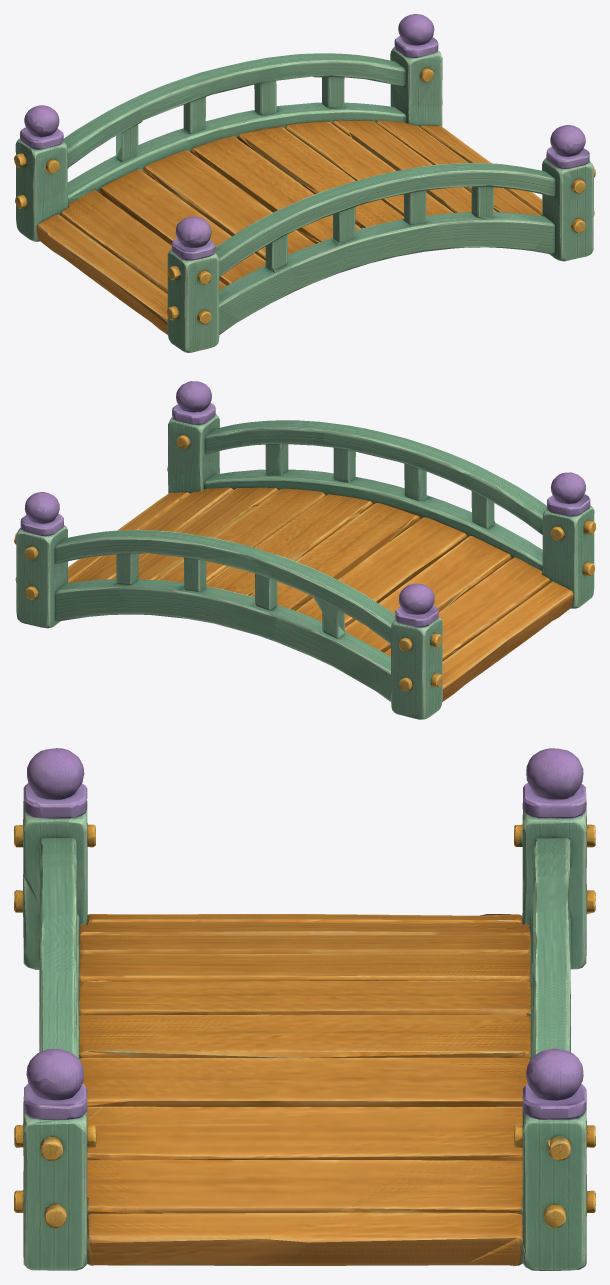
3 renders of one model, top to bottom at view 1: azimuth 30°, elevation 25°; view 2: azimuth 150°, elevation 25°; view 3: azimuth 270°, elevation 25°, orthographic. The views are drawn at different scales.
Parts seen in each view (by area): view 1: island-bridge-v1-1; view 2: island-bridge-v1-1; view 3: island-bridge-v1-1.
Part boxes in pixels (left/top/right/bottom): island-bridge-v1-1: left=14, top=14, right=595, bottom=352; island-bridge-v1-1: left=14, top=381, right=595, bottom=719; island-bridge-v1-1: left=14, top=748, right=595, bottom=1270.
Size of the model in its own units: 4.24 by 1.2 by 3.07.
Materials: 1 (1 with a texture image).
